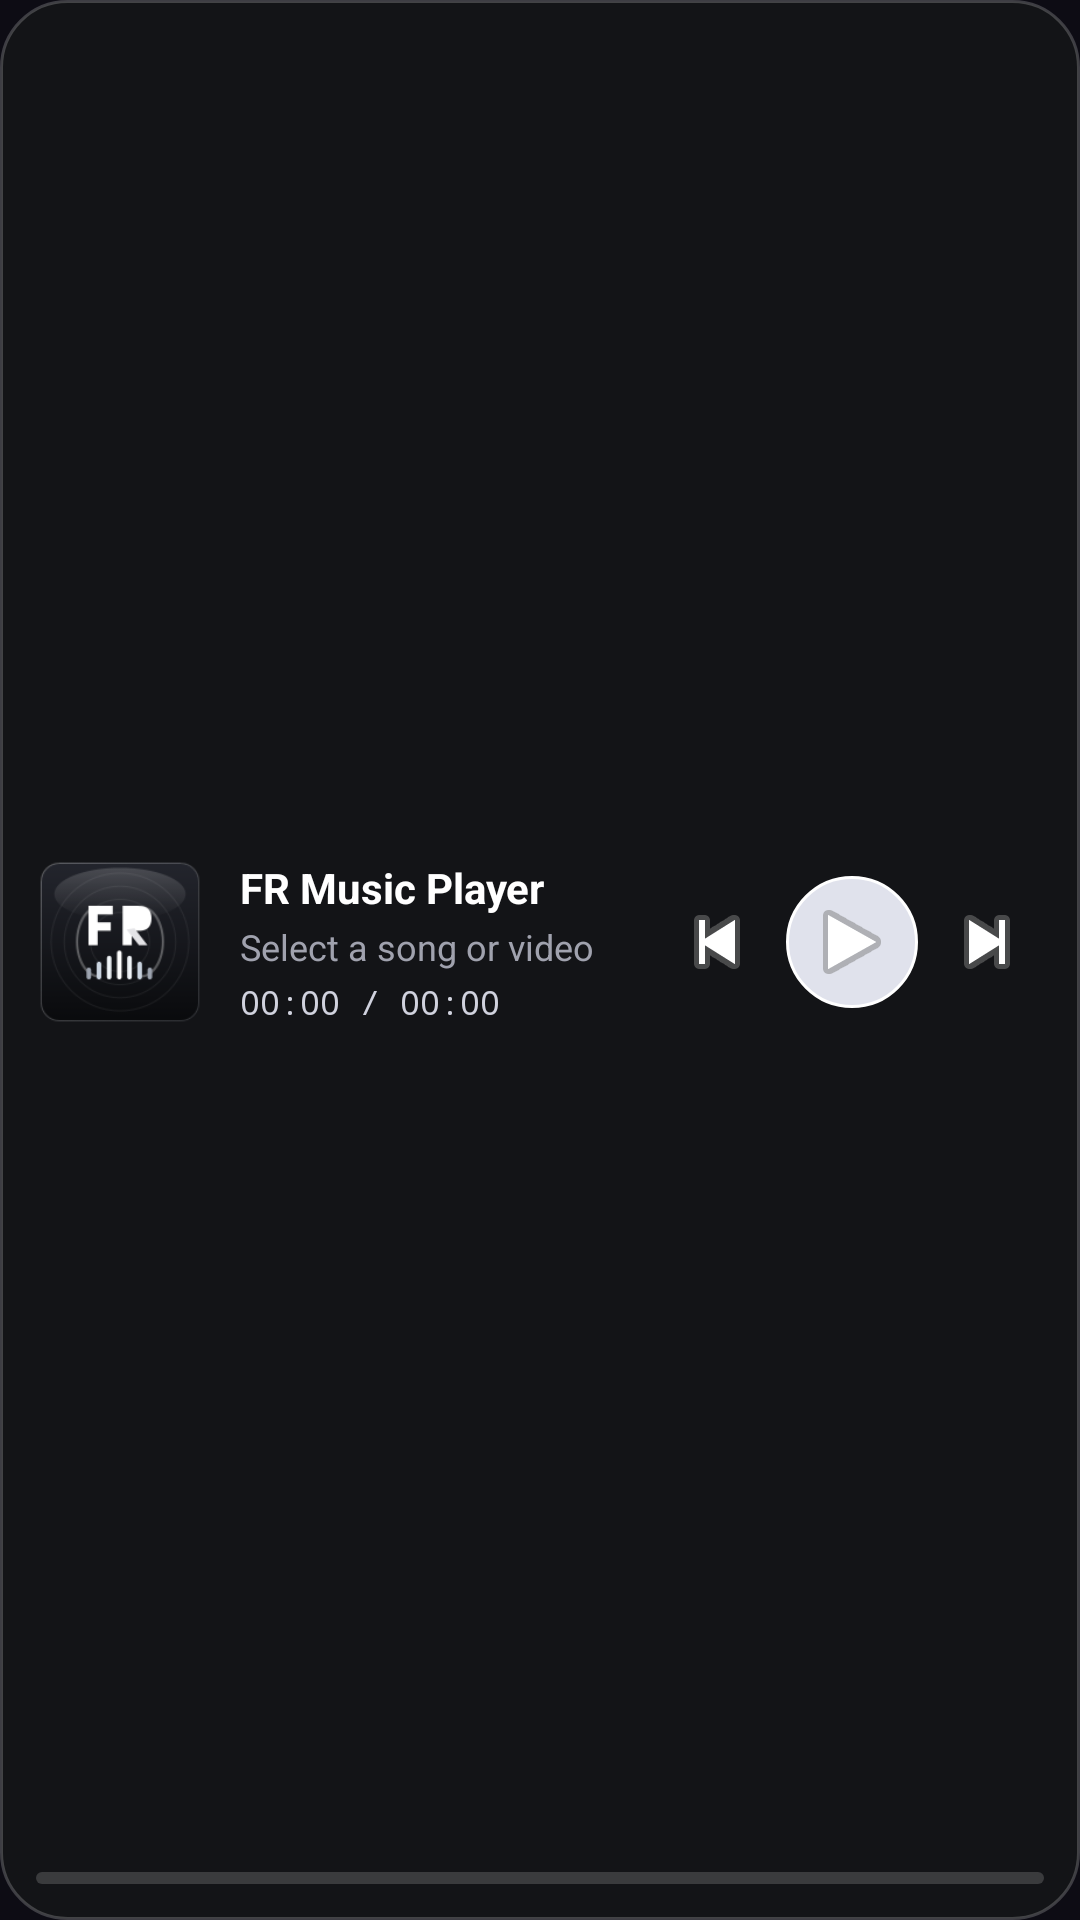

Screen size 1080×1920. Icon name, then its center in pixels as (x=x, y=y):
Next: (x=987, y=942)
Play or Pause: (x=852, y=942)
Previous: (x=717, y=942)
